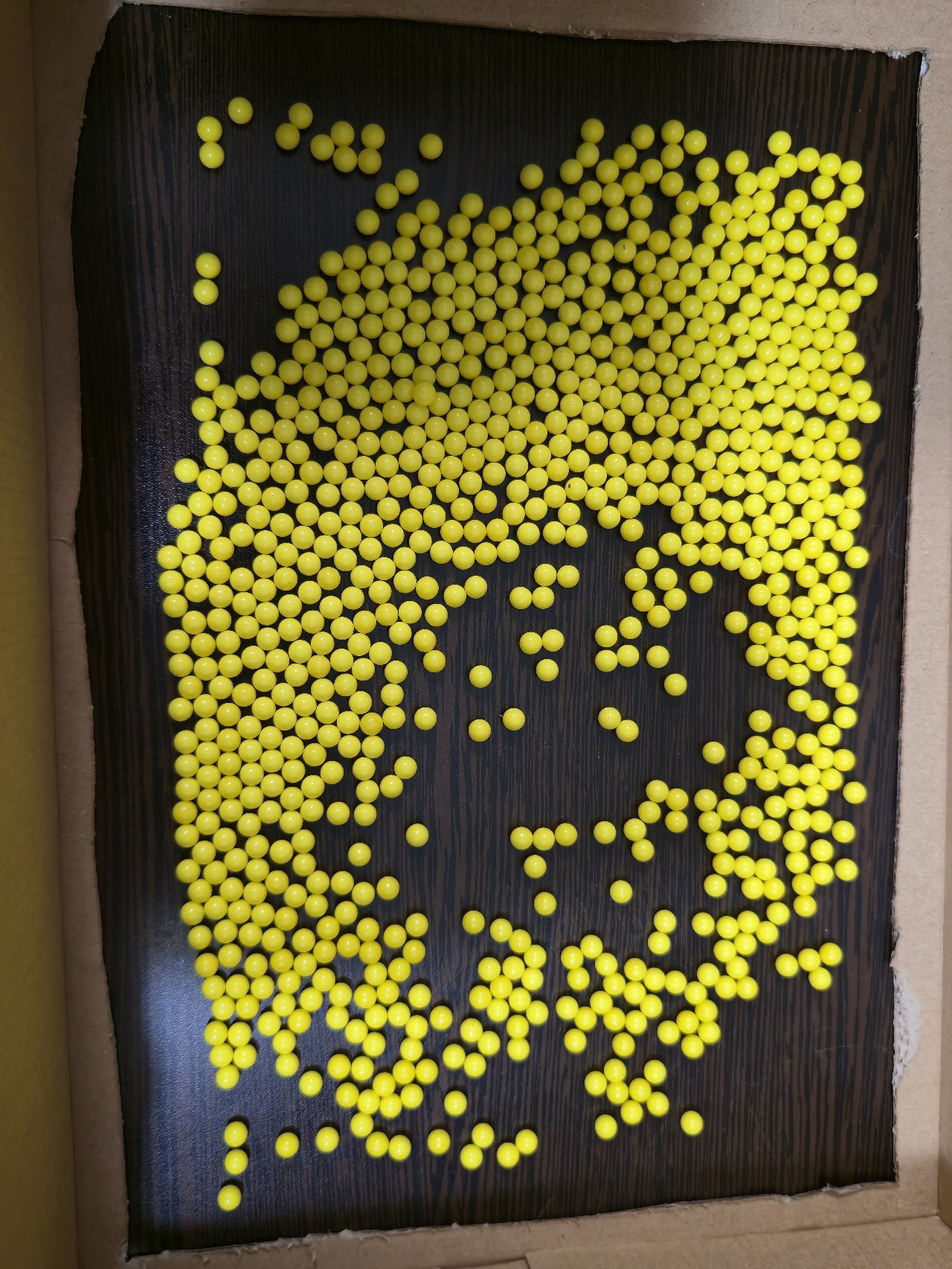yellow_bead: (180, 464, 194, 477), (187, 560, 200, 573), (182, 536, 195, 549), (226, 414, 239, 427), (448, 1050, 460, 1064), (240, 434, 254, 446), (321, 1134, 333, 1147), (686, 1117, 698, 1130), (483, 1037, 495, 1050), (203, 521, 216, 533), (173, 510, 185, 523), (414, 989, 425, 1003), (234, 1029, 246, 1041), (393, 1010, 405, 1022), (615, 886, 627, 898), (358, 762, 370, 774), (227, 469, 239, 481), (251, 464, 263, 476), (350, 1025, 361, 1038), (266, 780, 279, 791), (163, 551, 176, 562), (243, 487, 256, 498), (241, 382, 254, 393), (466, 1151, 477, 1163), (477, 1131, 489, 1142), (562, 1003, 573, 1015), (698, 918, 709, 930), (660, 915, 671, 927), (412, 829, 423, 841), (599, 826, 611, 837), (849, 787, 861, 798), (361, 786, 373, 797), (316, 684, 328, 695), (849, 492, 861, 503), (511, 460, 523, 471), (321, 432, 332, 444), (256, 415, 268, 426), (774, 137, 785, 149), (209, 451, 222, 461), (279, 425, 292, 435), (534, 1006, 543, 1020), (521, 1137, 532, 1148), (469, 1061, 480, 1072), (782, 960, 793, 971), (654, 938, 665, 949), (710, 880, 721, 891), (794, 815, 805, 826), (542, 664, 553, 675), (777, 507, 788, 518), (203, 475, 214, 486), (806, 463, 817, 474), (750, 365, 761, 376), (358, 1062, 368, 1074), (412, 1021, 422, 1033), (280, 1000, 290, 1012), (357, 887, 369, 897), (817, 845, 829, 855), (359, 809, 371, 819), (355, 696, 367, 706), (829, 671, 841, 681), (336, 654, 348, 664), (378, 562, 390, 572), (512, 485, 524, 495), (750, 477, 762, 487), (768, 409, 778, 421), (863, 407, 875, 417), (305, 1077, 314, 1090), (215, 681, 228, 690), (325, 601, 338, 610), (238, 597, 251, 606), (276, 518, 289, 527), (368, 1041, 379, 1051), (493, 1007, 504, 1017), (318, 975, 328, 986), (531, 951, 541, 962), (341, 907, 352, 917), (530, 861, 541, 871), (540, 833, 550, 844), (605, 713, 615, 724), (841, 712, 852, 722), (670, 679, 681, 689), (653, 651, 663, 662), (753, 650, 763, 661), (731, 617, 742, 627), (838, 535, 849, 545), (303, 507, 314, 517), (750, 500, 761, 510), (358, 462, 369, 472), (757, 435, 767, 446), (205, 426, 216, 436), (199, 402, 210, 412), (203, 260, 213, 271), (648, 1000, 657, 1012), (672, 977, 681, 989), (486, 963, 495, 975), (510, 962, 519, 974), (497, 924, 506, 936), (843, 864, 852, 876), (326, 766, 338, 775), (342, 716, 354, 725), (321, 707, 333, 716), (840, 600, 852, 609), (322, 489, 334, 498), (291, 485, 303, 494), (301, 416, 313, 425), (306, 780, 319, 788), (243, 721, 256, 729), (271, 655, 284, 663), (283, 600, 296, 608), (303, 586, 316, 594), (258, 560, 271, 568), (235, 529, 248, 537), (451, 1100, 461, 1110), (282, 1061, 292, 1071), (515, 995, 525, 1005), (277, 845, 287, 855), (243, 818, 253, 828), (602, 631, 612, 641), (853, 552, 863, 562), (490, 444, 500, 454), (556, 440, 566, 450), (759, 387, 769, 397), (356, 1122, 367, 1131), (239, 1053, 248, 1064), (466, 1028, 477, 1037), (411, 919, 422, 928), (776, 908, 785, 919), (182, 864, 193, 873), (354, 848, 365, 857), (264, 806, 275, 815), (266, 756, 277, 765), (622, 725, 633, 734), (509, 713, 520, 722), (420, 713, 431, 722), (796, 695, 805, 706), (475, 671, 486, 680), (391, 666, 402, 675), (623, 650, 634, 659), (354, 639, 365, 648), (548, 634, 559, 643), (262, 633, 273, 642), (258, 584, 269, 593), (777, 533, 786, 544), (219, 497, 230, 506), (550, 490, 561, 499), (347, 483, 358, 492), (371, 482, 382, 491), (591, 469, 602, 478), (725, 457, 734, 468), (768, 455, 777, 466), (405, 454, 416, 463), (535, 450, 546, 459), (428, 446, 439, 455), (265, 443, 276, 452), (450, 437, 461, 446), (736, 434, 745, 445), (472, 429, 483, 438), (495, 420, 504, 431), (568, 399, 577, 410), (806, 353, 815, 364), (777, 327, 786, 338), (482, 303, 491, 314), (251, 511, 265, 518), (234, 1156, 242, 1168), (405, 1047, 417, 1055), (652, 973, 660, 985), (251, 841, 263, 849), (332, 807, 344, 815), (367, 742, 379, 750), (286, 742, 298, 750), (323, 730, 335, 738), (279, 713, 291, 721), (257, 702, 269, 710), (299, 699, 311, 707), (199, 699, 211, 707), (277, 688, 289, 696), (222, 636, 234, 644), (171, 635, 183, 643), (431, 609, 443, 617), (215, 590, 227, 598), (356, 571, 368, 579), (340, 553, 352, 561), (344, 530, 356, 538), (324, 517, 336, 525), (345, 507, 357, 515), (782, 284, 790, 296), (258, 674, 271, 681), (601, 1125, 611, 1134), (591, 1080, 600, 1090), (597, 999, 607, 1008), (692, 987, 701, 997), (187, 908, 196, 918), (383, 881, 393, 890), (820, 869, 829, 879), (631, 824, 640, 834), (285, 817, 295, 826), (701, 794, 711, 803), (827, 730, 836, 740), (757, 716, 766, 726), (602, 655, 612, 664), (526, 637, 536, 646), (776, 578, 785, 588), (541, 569, 551, 578), (747, 563, 756, 573), (791, 554, 800, 564), (761, 520, 770, 530), (729, 506, 738, 516), (592, 492, 602, 501), (692, 488, 701, 498), (771, 486, 780, 496), (816, 483, 826, 492), (631, 469, 641, 478), (575, 454, 584, 464), (364, 437, 374, 446), (617, 437, 627, 446), (221, 391, 230, 401), (756, 323, 765, 333), (230, 1130, 238, 1141), (370, 1014, 381, 1022), (289, 890, 300, 898), (312, 876, 323, 884), (219, 834, 230, 842), (768, 825, 776, 836), (774, 801, 782, 812), (286, 792, 297, 800), (652, 786, 663, 794), (181, 760, 192, 768), (475, 725, 486, 733), (388, 713, 399, 721), (175, 703, 186, 711), (797, 669, 805, 680), (838, 649, 846, 660), (375, 647, 386, 655), (295, 646, 306, 654), (284, 624, 295, 632), (337, 623, 348, 631), (785, 621, 793, 632), (188, 616, 199, 624), (405, 606, 416, 614), (515, 592, 526, 600), (375, 586, 386, 594), (729, 553, 737, 564), (458, 552, 469, 560), (281, 548, 292, 556), (436, 546, 447, 554), (797, 522, 805, 533), (429, 510, 440, 518), (564, 508, 575, 516), (268, 492, 279, 500), (611, 483, 622, 491), (395, 480, 406, 488), (532, 473, 543, 481), (424, 469, 435, 477), (787, 467, 795, 478), (382, 460, 393, 468), (292, 446, 303, 454), (341, 445, 352, 453), (510, 436, 521, 444), (389, 436, 397, 447), (267, 1017, 273, 1031), (590, 940, 597, 952), (743, 861, 750, 873), (245, 792, 257, 799), (245, 769, 257, 776), (287, 766, 299, 773), (344, 741, 356, 748), (201, 724, 213, 731), (394, 627, 406, 634), (306, 616, 318, 623), (213, 614, 225, 621), (261, 608, 273, 615), (190, 584, 202, 591), (399, 576, 411, 583), (303, 558, 315, 565), (364, 543, 376, 550), (260, 536, 272, 543), (387, 530, 399, 537), (515, 1047, 524, 1056), (208, 983, 217, 992), (222, 925, 231, 934), (725, 804, 734, 813), (814, 791, 823, 800), (843, 623, 852, 632), (817, 589, 826, 598), (686, 549, 695, 558), (667, 539, 676, 548), (689, 527, 698, 536), (810, 506, 819, 515), (707, 504, 716, 513), (468, 477, 477, 486), (680, 469, 689, 478), (828, 466, 837, 475), (412, 431, 421, 440), (811, 423, 820, 432), (433, 423, 442, 432), (515, 411, 524, 420), (794, 373, 803, 382), (791, 310, 800, 319), (747, 300, 756, 309), (700, 250, 709, 259), (215, 1053, 225, 1061), (280, 1039, 290, 1047), (218, 1005, 228, 1013), (337, 992, 347, 1000), (530, 975, 538, 985), (604, 959, 612, 969), (518, 935, 526, 945), (195, 931, 205, 939), (245, 929, 255, 937), (337, 876, 347, 884), (230, 854, 240, 862), (736, 835, 744, 845), (298, 835, 308, 843), (181, 831, 191, 839), (750, 812, 758, 822), (401, 762, 411, 770), (309, 748, 319, 756), (180, 736, 190, 744), (291, 669, 301, 677), (175, 659, 185, 667), (317, 637, 327, 645), (806, 623, 814, 633), (242, 621, 252, 629), (824, 610, 832, 620), (347, 592, 357, 600), (450, 590, 460, 598), (472, 581, 482, 589), (632, 574, 642, 582), (825, 558, 833, 568), (504, 544, 514, 552), (216, 542, 226, 550), (572, 530, 582, 538), (550, 527, 560, 535), (625, 501, 635, 509), (490, 468, 500, 476), (277, 465, 287, 473), (702, 454, 710, 464), (800, 442, 808, 452), (573, 425, 583, 433), (749, 415, 757, 425), (610, 415, 620, 423), (328, 404, 336, 414), (498, 397, 506, 407), (803, 393, 811, 403), (607, 391, 617, 399), (782, 391, 790, 401), (858, 386, 866, 396), (733, 373, 741, 383), (774, 368, 782, 378), (826, 294, 834, 304), (319, 541, 332, 547), (707, 969, 714, 980), (808, 954, 815, 965), (726, 922, 733, 933), (746, 916, 753, 927), (307, 806, 318, 813), (807, 769, 814, 780), (245, 745, 256, 752), (265, 732, 276, 739), (387, 689, 398, 696), (225, 660, 236, 667), (170, 600, 181, 607), (538, 592, 549, 599), (661, 574, 672, 581), (383, 503, 394, 510), (832, 499, 839, 510), (195, 497, 206, 504), (742, 393, 749, 404), (356, 391, 363, 402), (409, 1093, 418, 1101), (654, 1066, 660, 1078), (666, 1030, 674, 1039), (258, 984, 267, 992), (268, 934, 277, 942), (765, 928, 773, 937), (362, 923, 370, 932), (750, 884, 758, 893), (226, 883, 235, 891), (763, 864, 771, 873), (794, 859, 803, 867), (199, 847, 208, 855), (641, 845, 649, 854), (711, 747, 719, 756), (755, 742, 763, 751), (806, 739, 814, 748), (342, 679, 351, 687), (795, 646, 803, 655), (824, 634, 832, 643), (644, 553, 653, 561), (525, 528, 534, 536), (367, 519, 376, 527), (308, 466, 317, 474), (448, 461, 457, 469), (715, 436, 723, 445), (845, 405, 853, 414), (654, 399, 663, 407), (556, 329, 564, 338), (812, 313, 820, 322), (844, 269, 852, 278), (741, 269, 749, 278), (398, 1141, 405, 1151), (819, 974, 826, 984), (736, 963, 743, 973), (253, 866, 263, 873), (820, 817, 827, 827), (734, 778, 741, 788), (420, 634, 430, 641), (382, 608, 392, 615), (564, 571, 574, 578), (770, 557, 777, 567), (509, 508, 519, 515), (532, 503, 542, 510), (643, 488, 653, 495), (729, 412, 736, 422), (630, 398, 637, 408), (546, 394, 553, 404), (698, 388, 705, 398), (584, 360, 591, 370), (836, 315, 843, 325), (569, 307, 576, 317), (516, 838, 527, 844), (225, 806, 236, 812), (202, 748, 213, 754), (544, 370, 550, 381), (573, 1038, 581, 1046), (743, 941, 751, 949), (212, 902, 220, 910), (738, 527, 746, 535), (554, 417, 562, 425), (743, 343, 751, 351), (800, 333, 808, 341), (508, 269, 516, 277), (764, 173, 772, 181), (365, 1099, 372, 1108), (635, 1019, 642, 1028), (232, 983, 239, 992), (210, 867, 219, 874), (199, 638, 208, 645), (628, 622, 637, 629), (672, 594, 681, 601), (416, 491, 425, 498), (666, 489, 675, 496), (444, 485, 453, 492), (654, 465, 663, 472), (683, 446, 690, 455), (659, 443, 668, 450), (589, 408, 598, 415), (283, 402, 292, 409), (460, 391, 467, 400), (588, 384, 595, 393), (446, 370, 453, 379), (563, 353, 570, 362), (451, 346, 458, 355), (820, 335, 829, 342), (533, 276, 540, 285), (657, 1099, 663, 1109), (724, 945, 730, 955), (257, 910, 267, 916), (299, 860, 309, 866), (203, 771, 213, 777), (788, 770, 794, 780), (817, 705, 823, 715), (776, 640, 782, 650), (759, 589, 765, 599), (643, 418, 649, 428), (708, 410, 714, 420), (479, 405, 485, 415), (573, 281, 579, 291), (486, 279, 492, 289), (707, 187, 713, 197), (708, 1029, 715, 1037), (633, 990, 640, 998), (472, 916, 479, 924), (544, 899, 551, 907), (715, 838, 722, 846), (843, 755, 850, 763), (774, 754, 781, 762), (225, 708, 233, 715), (848, 515, 855, 523), (823, 445, 830, 453), (456, 414, 463, 422), (428, 349, 435, 357), (412, 330, 419, 338), (436, 327, 443, 335), (514, 315, 521, 323), (443, 279, 450, 287), (813, 246, 820, 254), (756, 221, 764, 228), (834, 206, 841, 214), (307, 996, 313, 1005), (373, 971, 379, 980), (250, 889, 259, 895), (844, 827, 850, 836), (184, 784, 193, 790), (823, 754, 829, 763), (239, 689, 248, 695), (184, 681, 193, 687), (201, 664, 210, 670), (495, 524, 504, 530), (345, 422, 354, 428), (336, 382, 342, 391), (568, 376, 574, 385), (606, 369, 612, 378), (259, 361, 268, 367), (602, 341, 608, 350), (579, 338, 585, 347), (698, 324, 704, 333), (713, 307, 719, 316), (443, 303, 449, 312), (532, 300, 538, 309), (506, 292, 512, 301), (553, 291, 559, 300), (849, 193, 858, 199), (783, 163, 792, 169), (300, 726, 313, 730), (200, 285, 210, 290), (794, 838, 801, 845), (565, 829, 572, 836), (432, 655, 439, 662), (778, 601, 785, 608), (214, 566, 221, 573), (681, 507, 688, 514), (484, 495, 491, 502), (556, 463, 563, 470), (666, 420, 673, 427), (522, 363, 529, 370), (462, 318, 469, 325), (463, 269, 470, 276), (822, 183, 829, 190), (850, 167, 857, 174), (747, 985, 753, 993), (284, 979, 292, 985), (235, 907, 243, 913), (196, 885, 202, 893), (709, 817, 715, 825), (648, 807, 654, 815), (205, 795, 213, 801), (483, 548, 491, 554), (629, 524, 637, 530), (458, 504, 466, 510), (576, 483, 582, 491), (721, 393, 727, 401), (504, 376, 510, 384), (628, 375, 634, 383), (359, 344, 365, 352), (390, 338, 396, 346), (673, 319, 679, 327), (393, 315, 399, 323), (611, 307, 617, 315), (399, 292, 405, 300), (707, 164, 713, 172), (312, 902, 321, 907), (315, 661, 324, 666), (818, 655, 823, 664), (631, 1111, 637, 1118), (615, 1069, 621, 1076), (571, 956, 577, 963), (227, 951, 233, 958), (302, 935, 308, 942), (275, 876, 281, 883), (676, 794, 683, 800), (767, 776, 773, 783), (425, 582, 432, 588), (450, 527, 457, 533), (408, 514, 415, 520), (733, 480, 740, 486), (402, 360, 408, 367), (644, 355, 650, 362), (495, 353, 501, 360), (621, 329, 627, 336), (344, 325, 350, 332), (306, 312, 312, 319), (329, 307, 335, 314), (353, 302, 359, 309), (849, 298, 855, 305), (395, 268, 401, 275), (506, 245, 512, 252), (773, 237, 779, 244), (826, 231, 833, 237), (695, 137, 701, 144), (388, 1105, 393, 1113), (226, 783, 234, 788), (226, 759, 234, 764), (848, 689, 853, 697), (324, 573, 332, 578), (808, 571, 813, 579), (692, 424, 697, 432), (371, 415, 376, 423), (425, 389, 429, 399), (650, 377, 655, 385), (205, 372, 213, 377), (660, 336, 665, 344), (864, 278, 872, 283), (625, 276, 629, 286), (580, 260, 585, 268), (603, 246, 608, 254), (747, 180, 752, 188), (737, 156, 742, 164), (831, 777, 837, 783), (226, 734, 232, 740), (643, 595, 649, 601), (242, 575, 248, 581), (782, 437, 788, 443), (596, 437, 602, 443), (790, 416, 799, 420), (689, 366, 695, 372), (766, 350, 772, 356), (286, 328, 292, 334), (591, 318, 597, 324), (707, 287, 713, 293), (372, 274, 378, 280), (599, 271, 605, 277), (719, 268, 725, 274), (433, 257, 439, 263), (207, 148, 216, 152), (224, 1192, 231, 1197), (725, 986, 730, 993), (252, 963, 257, 970), (394, 931, 399, 938), (660, 611, 665, 618), (702, 576, 707, 583), (282, 573, 289, 578), (713, 372, 718, 379), (356, 369, 361, 376), (334, 356, 339, 363), (322, 332, 327, 339), (657, 303, 662, 310), (633, 299, 638, 306), (377, 298, 382, 305), (816, 274, 823, 279), (691, 270, 696, 277), (568, 228, 573, 235), (762, 200, 769, 205), (165, 580, 173, 584), (714, 475, 718, 483), (441, 399, 445, 407), (595, 293, 599, 301), (506, 1153, 511, 1159), (612, 983, 617, 989), (303, 961, 308, 967), (806, 905, 811, 911), (724, 860, 729, 866), (785, 734, 790, 740), (254, 655, 259, 661), (840, 578, 846, 583), (812, 543, 818, 548), (714, 527, 719, 533), (335, 470, 341, 475), (616, 463, 621, 469), (524, 390, 530, 395), (674, 383, 680, 388), (705, 350, 710, 356), (693, 303, 698, 309), (419, 276, 425, 281), (484, 257, 489, 263), (713, 232, 719, 237), (681, 221, 686, 227), (547, 219, 552, 225), (779, 664, 783, 671), (748, 454, 755, 458), (414, 413, 421, 417), (668, 360, 672, 367), (549, 242, 553, 249), (526, 230, 530, 237), (619, 214, 623, 221), (693, 1045, 698, 1050), (440, 1016, 445, 1021), (339, 1015, 344, 1020), (394, 408, 399, 413), (773, 308, 778, 313), (380, 251, 385, 256), (733, 250, 738, 255), (525, 207, 530, 212), (591, 190, 596, 195), (588, 152, 593, 157), (404, 556, 410, 560), (271, 385, 277, 389), (289, 370, 295, 374), (669, 266, 673, 272), (466, 294, 469, 301), (683, 245, 686, 252), (675, 180, 678, 187), (678, 818, 682, 823), (795, 793, 800, 797), (370, 718, 374, 723), (305, 534, 309, 539), (642, 448, 646, 453), (484, 384, 488, 389), (820, 377, 824, 382), (379, 364, 384, 368), (623, 353, 627, 358), (685, 344, 689, 349), (420, 309, 424, 314), (315, 287, 320, 291), (332, 262, 337, 266), (756, 251, 760, 256), (454, 248, 459, 252), (592, 225, 596, 230), (644, 134, 649, 138), (713, 550, 716, 556), (756, 542, 762, 545), (474, 454, 477, 460), (537, 428, 540, 434), (544, 349, 547, 355), (829, 159, 835, 162), (675, 128, 678, 134), (854, 472, 858, 476), (556, 269, 560, 273), (405, 246, 409, 250), (485, 234, 489, 238), (643, 204, 647, 208), (653, 169, 657, 173), (579, 977, 584, 980), (824, 524, 829, 527), (472, 364, 475, 369), (856, 359, 859, 364), (517, 340, 520, 345), (495, 330, 500, 333), (538, 326, 541, 331), (576, 206, 579, 211), (608, 170, 613, 173), (518, 1028, 521, 1032), (708, 1012, 712, 1015), (637, 970, 640, 974), (394, 786, 398, 789), (762, 629, 765, 633), (803, 602, 807, 605), (423, 540, 426, 544), (611, 516, 615, 519), (840, 430, 843, 434), (404, 386, 406, 392), (842, 382, 846, 385), (426, 373, 430, 376), (476, 341, 480, 344), (292, 296, 295, 300), (678, 289, 681, 293), (764, 283, 766, 289), (627, 251, 631, 254), (641, 230, 644, 234), (573, 169, 576, 173), (675, 154, 678, 158), (437, 1142, 440, 1145), (213, 1033, 216, 1036), (834, 954, 837, 957), (324, 949, 327, 952), (202, 822, 205, 825), (366, 668, 369, 671), (415, 540, 418, 543), (311, 396, 314, 399), (370, 324, 373, 327), (433, 234, 436, 237), (743, 205, 746, 208), (473, 205, 476, 208), (800, 200, 803, 203), (554, 198, 557, 201), (408, 181, 411, 184), (751, 765, 753, 769), (646, 323, 648, 327), (647, 260, 649, 264), (615, 192, 617, 196), (228, 1074, 231, 1076), (805, 885, 808, 887), (184, 809, 186, 812), (684, 406, 686, 409), (350, 280, 352, 283), (849, 242, 851, 245), (533, 175, 536, 177), (811, 154, 814, 156), (386, 786, 388, 788), (236, 578, 238, 580), (399, 557, 401, 559), (306, 351, 308, 353), (214, 349, 216, 351), (798, 264, 800, 266), (779, 214, 781, 216), (804, 154, 806, 156), (586, 1018, 587, 1021), (247, 1006, 248, 1009), (797, 488, 800, 489), (851, 448, 852, 451), (826, 398, 829, 399), (216, 353, 217, 356), (209, 347, 212, 348), (211, 161, 214, 162), (808, 153, 811, 154), (286, 1145, 288, 1146), (338, 1067, 340, 1068), (287, 916, 288, 918), (775, 888, 776, 890), (801, 489, 803, 490), (382, 389, 383, 391), (735, 319, 736, 321), (737, 318, 739, 319), (210, 291, 211, 293), (389, 195, 391, 196), (642, 1092, 643, 1093), (427, 1070, 428, 1071), (258, 960, 259, 961), (358, 669, 359, 670), (247, 656, 248, 657), (297, 536, 298, 537), (745, 457, 746, 458), (207, 348, 208, 349), (728, 286, 729, 287), (356, 257, 357, 258), (801, 239, 802, 240), (461, 225, 462, 226), (827, 160, 828, 161), (434, 147, 435, 148), (331, 1018, 332, 1018), (338, 1015, 338, 1015), (399, 971, 400, 971), (329, 926, 329, 927), (332, 472, 332, 473), (213, 380, 213, 381), (787, 350, 788, 350), (849, 338, 850, 338), (205, 298, 205, 299), (805, 289, 806, 289), (654, 285, 654, 286), (863, 280, 863, 280), (846, 242, 847, 242), (370, 221, 370, 223), (782, 213, 782, 214), (817, 211, 817, 212), (813, 211, 816, 211)
